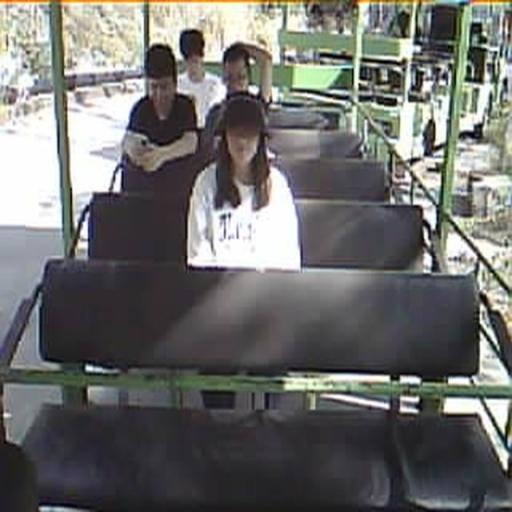persona: (186, 96, 302, 272), (120, 42, 199, 172), (205, 42, 274, 130), (176, 27, 226, 129)
